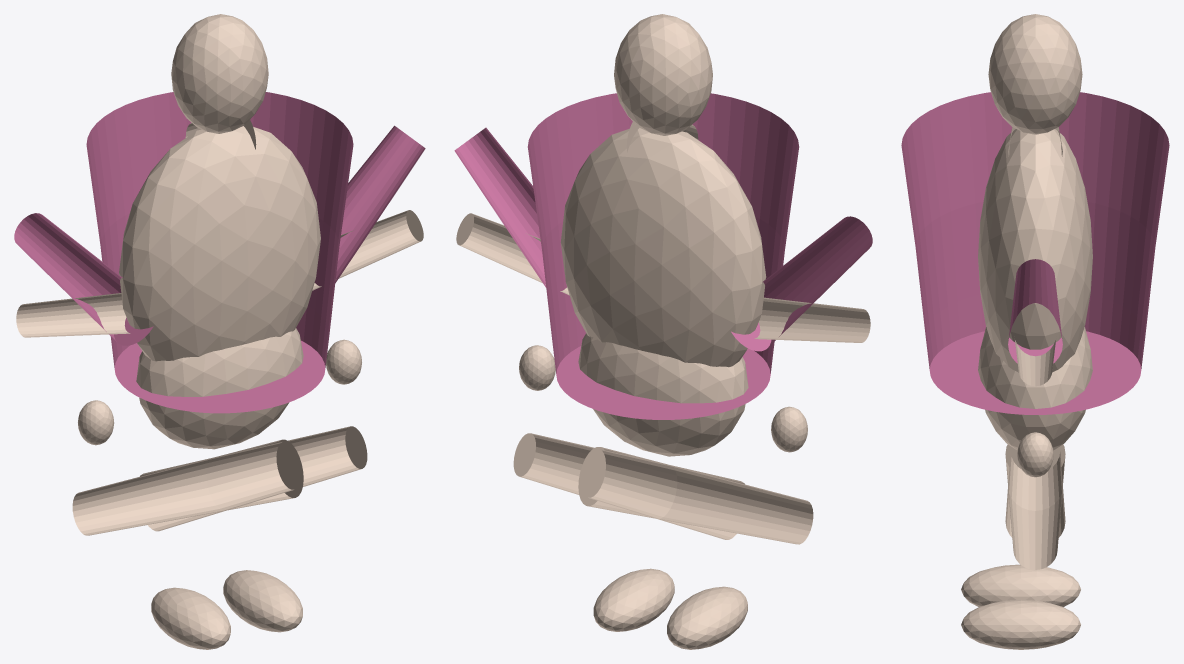
File: masculino-chaqueta.glb
The picture shows the model from 3 angles, left to right: view 1: azimuth 30°, elevation 25°; view 2: azimuth 150°, elevation 25°; view 3: azimuth 270°, elevation 25°; orthographic projection.
Visible parts, largest first — view 1: Avatar0, Prenda, Avatar1, Avatar3, Avatar4, Avatar8, Avatar6, Avatar5, Avatar9, Avatar10, Avatar7, Avatar11; view 2: Avatar0, Prenda, Avatar1, Avatar3, Avatar4, Avatar8, Avatar6, Avatar9, Avatar5, Avatar10, Avatar7, Avatar11; view 3: Prenda, Avatar0, Avatar3, Avatar1, Avatar9, Avatar5, Avatar8, Avatar4, Avatar11, Avatar10.
Part boxes in pixels (x1,y1,x2,y2): Avatar0: (119,126,320,361); Prenda: (14,92,425,413); Avatar1: (136,328,303,449); Avatar3: (171,14,268,133); Avatar4: (72,439,303,535); Avatar8: (140,426,367,531); Avatar6: (16,293,130,337); Avatar5: (151,587,230,649); Avatar9: (223,570,302,632); Avatar10: (312,210,423,290); Avatar7: (78,400,114,445); Avatar11: (326,339,361,384); Avatar0: (560,128,766,367); Prenda: (454,93,872,419); Avatar1: (578,333,748,456); Avatar3: (614,14,712,135); Avatar4: (578,447,813,544); Avatar8: (513,433,744,539); Avatar6: (754,297,870,342); Avatar9: (593,568,674,631); Avatar5: (667,586,747,649); Avatar10: (456,213,569,295); Avatar7: (771,406,807,452); Avatar11: (519,345,555,390); Prenda: (901,92,1169,414); Avatar0: (978,129,1092,372); Avatar3: (988,14,1082,134); Avatar1: (978,327,1092,450); Avatar9: (961,599,1080,649); Avatar5: (961,564,1080,606); Avatar8: (1005,444,1065,569); Avatar4: (1005,452,1065,537); Avatar11: (1017,432,1053,477); Avatar10: (1015,340,1055,386).
Bounding box in the file's own units: 1.8 × 2.58 × 1.03.
